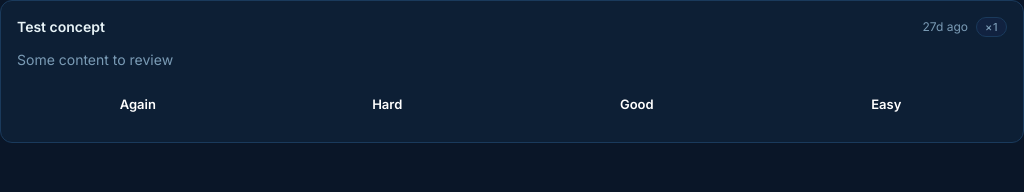
Test case: ReviewCard › positive control: error path stays on the rating buttons (no false success)
The width and height of the screenshot is (1024, 192).
Click the button "Easy": click(886, 104) x1=766 y1=82 x2=1007 y2=126
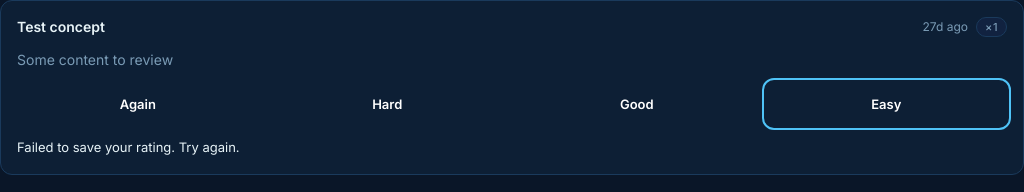
Check: the message "Failed to save your rating. Try again." is shown, box x1=17 y1=139 x2=240 y2=155
